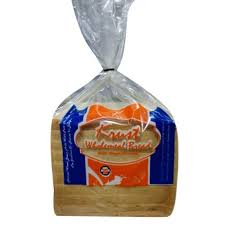bread: (44, 14, 184, 221)
